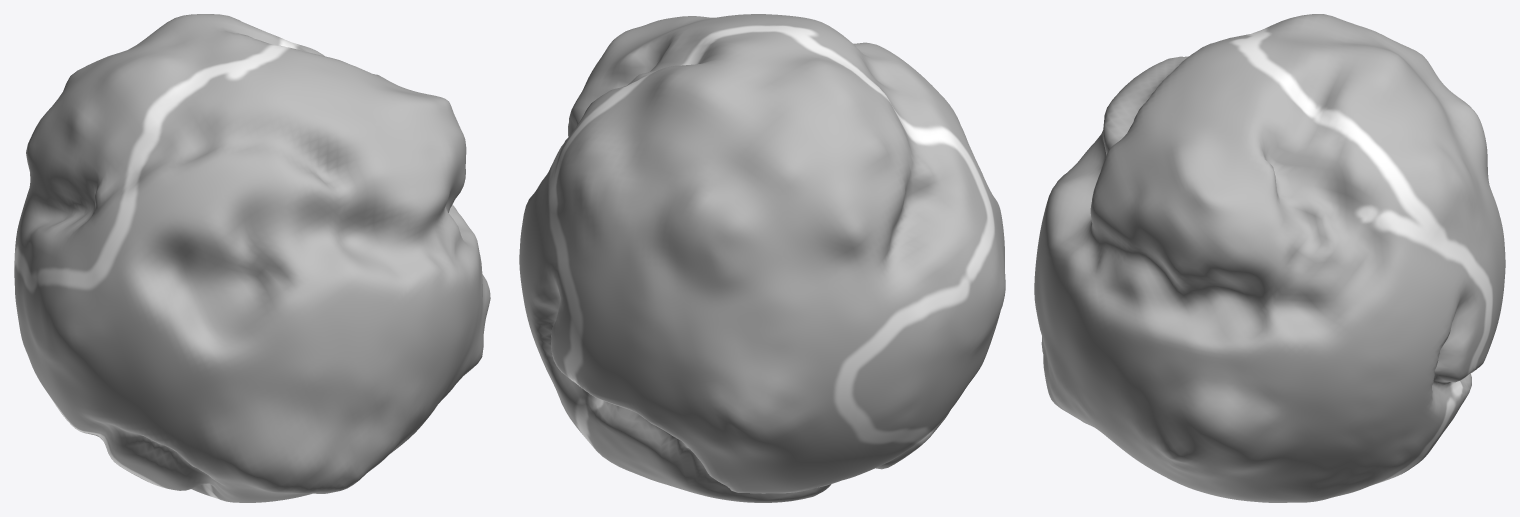
The model's file is ground_sphere.fbx.
3 views of the same model, side by side, from view 1: azimuth 30°, elevation 25°; view 2: azimuth 150°, elevation 25°; view 3: azimuth 270°, elevation 25° (orthographic). The views are drawn at different scales.
Visible parts, largest first — view 1: base_sphere; view 2: base_sphere; view 3: base_sphere.
Part boxes in pixels (<box>): base_sphere: <box>14,14,490,502</box>; base_sphere: <box>519,14,1005,502</box>; base_sphere: <box>1034,14,1505,502</box>.
Size of the model in its own units: 72.31 by 70.46 by 69.73.
